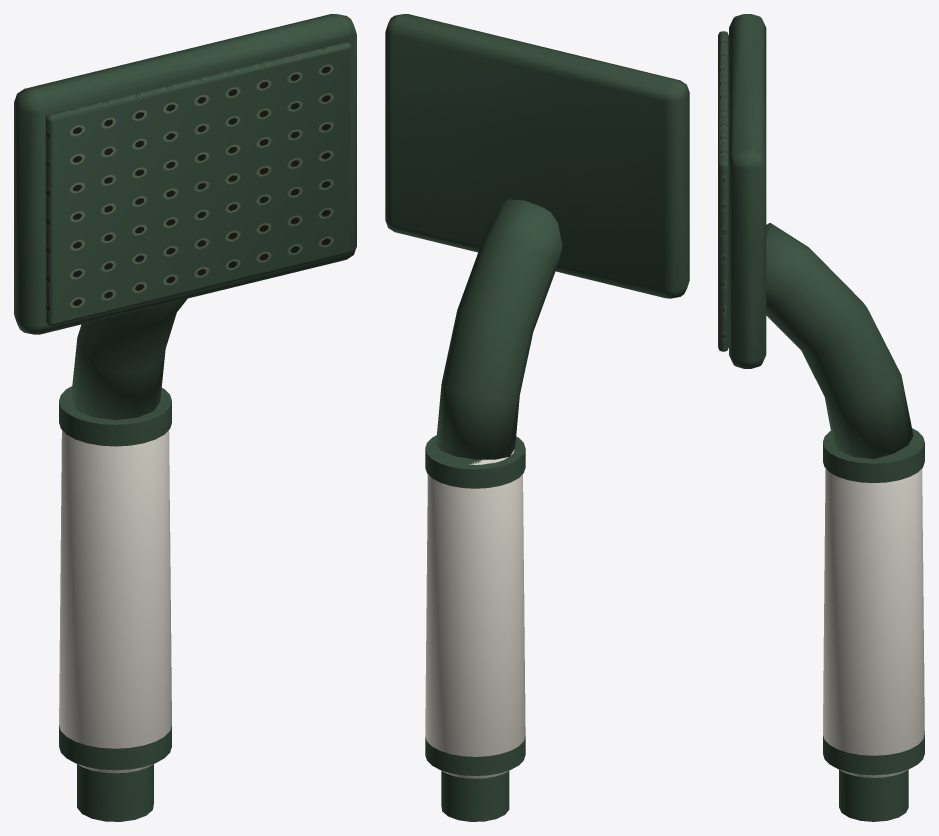
File: RainShower.fbx
3 views of the same model, side by side, from view 1: azimuth 30°, elevation 25°; view 2: azimuth 150°, elevation 25°; view 3: azimuth 270°, elevation 25° (orthographic). The views are drawn at different scales.
Visible parts, largest first — view 1: RainShower_Mesh; view 2: RainShower_Mesh; view 3: RainShower_Mesh.
Part boxes in pixels (box(x1,y1,x2,y2)): RainShower_Mesh: box(14, 14, 356, 821); RainShower_Mesh: box(385, 14, 689, 821); RainShower_Mesh: box(718, 14, 924, 821).
Bounding box in the file's own units: 0.13 × 0.298 × 0.077.
1 material, 1 textured.
